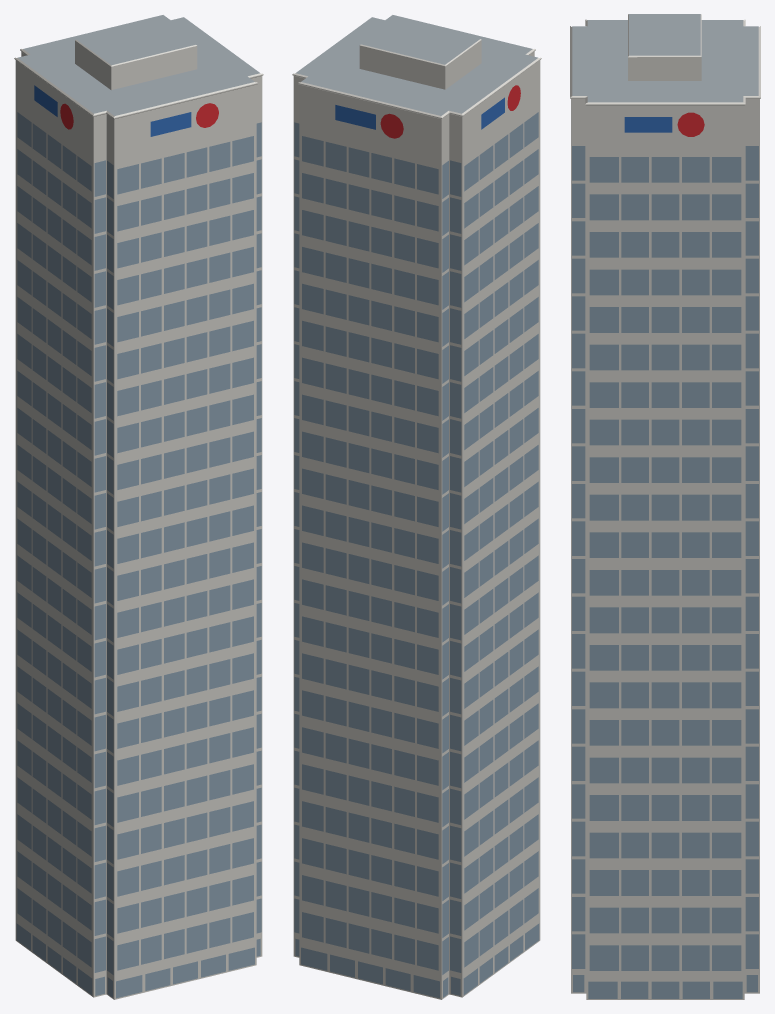
Rendered from tor-first-canadian-place.glb.
The picture shows the model from 3 angles, left to right: view 1: azimuth 30°, elevation 25°; view 2: azimuth 150°, elevation 25°; view 3: azimuth 270°, elevation 25°; orthographic projection.
Parts seen in each view (by area): view 1: First Canadian Place; view 2: First Canadian Place; view 3: First Canadian Place.
Boxes of the visible parts, x1=… form: First Canadian Place: x1=14, y1=15, x2=263, y2=999; First Canadian Place: x1=292, y1=15, x2=541, y2=999; First Canadian Place: x1=570, y1=14, x2=760, y2=999.
Size of the model in its own units: 58.5 by 298 by 55.9.
